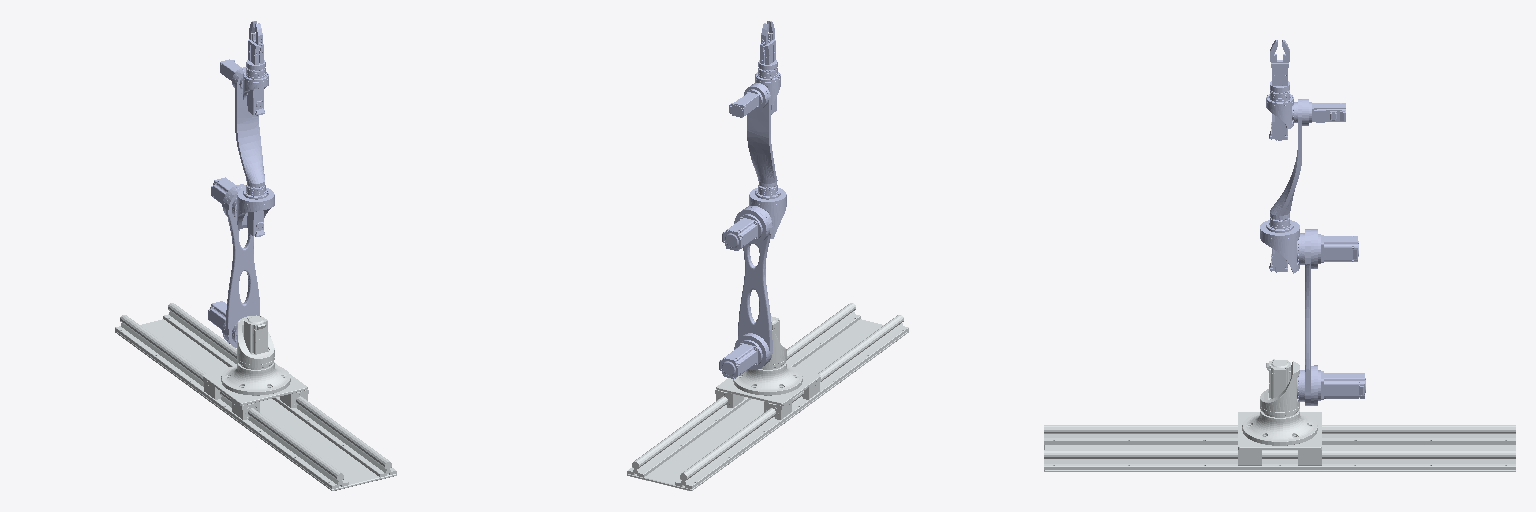
URDF robot description (sr5_description):
<?xml version="1.0" encoding="utf-8"?>
<!-- This URDF was automatically created by SolidWorks to URDF Exporter! Originally created by [author] ([email redacted]) 
     Commit Version: 1.5.1-0-g916b5db  Build Version: 1.5.7152.31018
     For more information, please see http://wiki.ros.org/sw_urdf_exporter -->
<robot
  name="sr5_description">

  <link name="world"/>

  <joint name="virtual_joint" type="fixed">
    <parent link="world"/>
    <child link="base_link"/>
  </joint>


  <link
    name="base_link">
    <inertial>
      <origin
        xyz="-3.8924E-16 0.00019559 0.021596"
        rpy="0 0 0" />
      <mass
        value="27.667" />
      <inertia
        ixx="3.606"
        ixy="2.945E-17"
        ixz="1.9429E-16"
        iyy="0.17142"
        iyz="9.0087E-05"
        izz="3.7651" />
    </inertial>
    <visual>
      <origin
        xyz="0 0 0"
        rpy="0 0 0" />
      <geometry>
        <mesh
          filename="package://sr5_description/meshes/base_link.STL" />
      </geometry>
      <material
        name="">
        <color
          rgba="0.89804 0.91765 0.92941 1" />
      </material>
    </visual>
    <collision>
      <origin
        xyz="0 0 0"
        rpy="0 0 0" />
      <geometry>
        <mesh
          filename="package://sr5_description/meshes/base_link.STL" />
      </geometry>
    </collision>
  </link>
  <link
    name="link1">
    <inertial>
      <origin
        xyz="-0.00062621 -6.8625E-08 -0.0038867"
        rpy="0 0 0" />
      <mass
        value="4.3511" />
      <inertia
        ixx="0.019914"
        ixy="1.2269E-09"
        ixz="-3.1587E-07"
        iyy="0.01992"
        iyz="7.4811E-09"
        izz="0.035457" />
    </inertial>
    <visual>
      <origin
        xyz="0 0 0"
        rpy="0 0 0" />
      <geometry>
        <mesh
          filename="package://sr5_description/meshes/link1.STL" />
      </geometry>
      <material
        name="">
        <color
          rgba="0.89804 0.91765 0.92941 1" />
      </material>
    </visual>
    <collision>
      <origin
        xyz="0 0 0"
        rpy="0 0 0" />
      <geometry>
        <mesh
          filename="package://sr5_description/meshes/link1.STL" />
      </geometry>
    </collision>
  </link>
  <joint
    name="joint1"
    type="prismatic">
    <origin
      xyz="0 0 0.075"
      rpy="0 0 0" />
    <parent
      link="base_link" />
    <child
      link="link1" />
    <axis
      xyz="0 1 0" />
    <limit
      lower="-0.5"
      upper="0.5"
      effort="100000"
      velocity="100" />
  </joint>
  <link
    name="link2">
    <inertial>
      <origin
        xyz="8.5634E-09 0.0099951 0.082501"
        rpy="0 0 0" />
      <mass
        value="1.3178" />
      <inertia
        ixx="0.0027395"
        ixy="-3.6462E-07"
        ixz="3.6685E-09"
        iyy="0.0027521"
        iyz="-0.00035357"
        izz="0.0018915" />
    </inertial>
    <visual>
      <origin
        xyz="0 0 0"
        rpy="0 0 0" />
      <geometry>
        <mesh
          filename="package://sr5_description/meshes/link2.STL" />
      </geometry>
      <material
        name="">
        <color
          rgba="0.89804 0.91765 0.92941 1" />
      </material>
    </visual>
    <collision>
      <origin
        xyz="0 0 0"
        rpy="0 0 0" />
      <geometry>
        <mesh
          filename="package://sr5_description/meshes/link2.STL" />
      </geometry>
    </collision>
  </link>
  <joint
    name="joint2"
    type="revolute">
    <origin
      xyz="0 0 0.03"
      rpy="0 0 0" />
    <parent
      link="link1" />
    <child
      link="link2" />
    <axis
      xyz="0 0 1" />
    <limit
      lower="-3.141"
      upper="3.141"
      effort="1000000"
      velocity="1000" />
  </joint>
  <link
    name="link3">
    <inertial>
      <origin
        xyz="-9.7386E-05 0.057355 0.1895"
        rpy="0 0 0" />
      <mass
        value="2.6176" />
      <inertia
        ixx="0.085085"
        ixy="-1.8079E-05"
        ixz="6.618E-06"
        iyy="0.082321"
        iyz="0.00079301"
        izz="0.0064085" />
    </inertial>
    <visual>
      <origin
        xyz="0 0 0"
        rpy="0 0 0" />
      <geometry>
        <mesh
          filename="package://sr5_description/meshes/link3.STL" />
      </geometry>
      <material
        name="">
        <color
          rgba="0.79216 0.81961 0.93333 1" />
      </material>
    </visual>
    <collision>
      <origin
        xyz="0 0 0"
        rpy="0 0 0" />
      <geometry>
        <mesh
          filename="package://sr5_description/meshes/link3.STL" />
      </geometry>
    </collision>
  </link>
  <joint
    name="joint3"
    type="revolute">
    <origin
      xyz="0 0.045 0.1"
      rpy="0 0 0" />
    <parent
      link="link2" />
    <child
      link="link3" />
    <axis
      xyz="0 1 0" />
    <limit
      lower="-2.8"
      upper="2.8"
      effort="100000"
      velocity="100" />
  </joint>
  <link
    name="link4">
    <inertial>
      <origin
        xyz="-1.5278E-06 -0.034935 0.025472"
        rpy="0 0 0" />
      <mass
        value="1.3019" />
      <inertia
        ixx="0.0024627"
        ixy="-2.2347E-06"
        ixz="-8.9011E-08"
        iyy="0.002474"
        iyz="0.00045457"
        izz="0.0019237" />
    </inertial>
    <visual>
      <origin
        xyz="0 0 0"
        rpy="0 0 0" />
      <geometry>
        <mesh
          filename="package://sr5_description/meshes/link4.STL" />
      </geometry>
      <material
        name="">
        <color
          rgba="0.79216 0.81961 0.93333 1" />
      </material>
    </visual>
    <collision>
      <origin
        xyz="0 0 0"
        rpy="0 0 0" />
      <geometry>
        <mesh
          filename="package://sr5_description/meshes/link4.STL" />
      </geometry>
    </collision>
  </link>
  <joint
    name="joint4"
    type="revolute">
    <origin
      xyz="0 0 0.39975"
      rpy="0 0 0" />
    <parent
      link="link3" />
    <child
      link="link4" />
    <axis
      xyz="0 1 0" />
    <limit
      lower="-2.7"
      upper="2.7"
      effort="100000"
      velocity="1000" />
  </joint>
  <link
    name="link5">
    <inertial>
      <origin
        xyz="0.00015562 0.061823 0.20524"
        rpy="0 0 0" />
      <mass
        value="0.67706" />
      <inertia
        ixx="0.010186"
        ixy="-1.0896E-05"
        ixz="-8.2132E-06"
        iyy="0.0090583"
        iyz="-0.0026376"
        izz="0.0015366" />
    </inertial>
    <visual>
      <origin
        xyz="0 0 0"
        rpy="0 0 0" />
      <geometry>
        <mesh
          filename="package://sr5_description/meshes/link5.STL" />
      </geometry>
      <material
        name="">
        <color
          rgba="0.79216 0.81961 0.93333 1" />
      </material>
    </visual>
    <collision>
      <origin
        xyz="0 0 0"
        rpy="0 0 0" />
      <geometry>
        <mesh
          filename="package://sr5_description/meshes/link5.STL" />
      </geometry>
    </collision>
  </link>
  <joint
    name="joint5"
    type="revolute">
    <origin
      xyz="0 -0.045 0.098"
      rpy="0 0 0" />
    <parent
      link="link4" />
    <child
      link="link5" />
    <axis
      xyz="0 0 1" />
    <limit
      lower="-3.141"
      upper="3.141"
      effort="100000"
      velocity="100" />
  </joint>
  <link
    name="link6">
    <inertial>
      <origin
        xyz="-7.3617E-06 -0.027586 0.0059698"
        rpy="0 0 0" />
      <mass
        value="0.5365" />
      <inertia
        ixx="0.00070321"
        ixy="-1.738E-06"
        ixz="-2.0576E-07"
        iyy="0.00070294"
        iyz="3.7561E-05"
        izz="0.00034865" />
    </inertial>
    <visual>
      <origin
        xyz="0 0 0"
        rpy="0 0 0" />
      <geometry>
        <mesh
          filename="package://sr5_description/meshes/link6.STL" />
      </geometry>
      <material
        name="">
        <color
          rgba="0.79216 0.81961 0.93333 1" />
      </material>
    </visual>
    <collision>
      <origin
        xyz="0 0 0"
        rpy="0 0 0" />
      <geometry>
        <mesh
          filename="package://sr5_description/meshes/link6.STL" />
      </geometry>
    </collision>
  </link>
  <joint
    name="joint6"
    type="revolute">
    <origin
      xyz="0 0.032068 0.30175"
      rpy="0 0 0" />
    <parent
      link="link5" />
    <child
      link="link6" />
    <axis
      xyz="0 1 0" />
    <limit
      lower="-3.141"
      upper="3.141"
      effort="1000000"
      velocity="100" />
  </joint>
  <link
    name="link7">
    <inertial>
      <origin
        xyz="4.7452E-18 8.4288E-18 -0.010923"
        rpy="0 0 0" />
      <mass
        value="0.038745" />
      <inertia
        ixx="8.7657E-06"
        ixy="-5.1368E-22"
        ixz="8.0722E-22"
        iyy="9.1518E-06"
        iyz="-1.7059E-21"
        izz="1.3442E-05" />
    </inertial>
    <visual>
      <origin
        xyz="0 0 0"
        rpy="0 0 0" />
      <geometry>
        <mesh
          filename="package://sr5_description/meshes/link7.STL" />
      </geometry>
      <material
        name="">
        <color
          rgba="0.79216 0.81961 0.93333 1" />
      </material>
    </visual>
    <collision>
      <origin
        xyz="0 0 0"
        rpy="0 0 0" />
      <geometry>
        <mesh
          filename="package://sr5_description/meshes/link7.STL" />
      </geometry>
    </collision>
  </link>
  <joint
    name="joint7"
    type="revolute">
    <origin
      xyz="0 -0.03207 0.0855"
      rpy="0 0 0" />
    <parent
      link="link6" />
    <child
      link="link7" />
    <axis
      xyz="0 0 -1" />
    <limit
      lower="-3.141"
      upper="3.141"
      effort="100000"
      velocity="100" />
  </joint>
  <link
    name="hand_link">
    <inertial>
      <origin
        xyz="6.2564E-06 3.3394E-05 0.031908"
        rpy="0 0 0" />
      <mass
        value="0.060257" />
      <inertia
        ixx="2.8147E-05"
        ixy="-3.2686E-08"
        ixz="4.6046E-09"
        iyy="2.327E-05"
        iyz="-2.5298E-08"
        izz="1.3081E-05" />
    </inertial>
    <visual>
      <origin
        xyz="0 0 0"
        rpy="0 0 0" />
      <geometry>
        <mesh
          filename="package://sr5_description/meshes/hand_link.STL" />
      </geometry>
      <material
        name="">
        <color
          rgba="0.79216 0.81961 0.93333 1" />
      </material>
    </visual>
    <collision>
      <origin
        xyz="0 0 0"
        rpy="0 0 0" />
      <geometry>
        <mesh
          filename="package://sr5_description/meshes/hand_link.STL" />
      </geometry>
    </collision>
  </link>
  <joint
    name="hand_joint"
    type="fixed">
    <origin
      xyz="0 0 0"
      rpy="0 0 0" />
    <parent
      link="link7" />
    <child
      link="hand_link" />
    <axis
      xyz="0 0 0" />
  </joint>
  <link
    name="left_finger_link">
    <inertial>
      <origin
        xyz="2.381E-09 -0.0051254 0.031222"
        rpy="0 0 0" />
      <mass
        value="0.012212" />
      <inertia
        ixx="4.4569E-06"
        ixy="-1.7335E-13"
        ixz="-4.1481E-13"
        iyy="4.3168E-06"
        iyz="-6.2127E-08"
        izz="5.7393E-07" />
    </inertial>
    <visual>
      <origin
        xyz="0 0 0"
        rpy="0 0 0" />
      <geometry>
        <mesh
          filename="package://sr5_description/meshes/left_finger_link.STL" />
      </geometry>
      <material
        name="">
        <color
          rgba="0.79216 0.81961 0.93333 1" />
      </material>
    </visual>
    <collision>
      <origin
        xyz="0 0 0"
        rpy="0 0 0" />
      <geometry>
        <mesh
          filename="package://sr5_description/meshes/left_finger_link.STL" />
      </geometry>
    </collision>
  </link>
  <joint
    name="left_finger_joint"
    type="fixed">
    <origin
      xyz="0 -0.01069 0.0577"
      rpy="0 0 0" />
    <parent
      link="hand_link" />
    <child
      link="left_finger_link" />
    <axis
      xyz="0 0 0" />
    <limit
      lower="-0.01"
      upper="0"
      effort="100000"
      velocity="100" />
  </joint>
  <link
    name="right_finger_link">
    <inertial>
      <origin
        xyz="-2.381E-09 0.0051254 0.031222"
        rpy="0 0 0" />
      <mass
        value="0.012212" />
      <inertia
        ixx="4.4569E-06"
        ixy="-1.7335E-13"
        ixz="4.1481E-13"
        iyy="4.3168E-06"
        iyz="6.2127E-08"
        izz="5.7393E-07" />
    </inertial>
    <visual>
      <origin
        xyz="0 0 0"
        rpy="0 0 0" />
      <geometry>
        <mesh
          filename="package://sr5_description/meshes/right_finger_link.STL" />
      </geometry>
      <material
        name="">
        <color
          rgba="0.79216 0.81961 0.93333 1" />
      </material>
    </visual>
    <collision>
      <origin
        xyz="0 0 0"
        rpy="0 0 0" />
      <geometry>
        <mesh
          filename="package://sr5_description/meshes/right_finger_link.STL" />
      </geometry>
    </collision>
  </link>
  <joint
    name="right_finger_joint"
    type="fixed">
    <origin
      xyz="0 0.01069 0.0577"
      rpy="0 0 0" />
    <parent
      link="hand_link" />
    <child
      link="right_finger_link" />
    <axis
      xyz="0 0 0" />
    <limit
      lower="0"
      upper="0.01"
      effort="100000"
      velocity="100" />

  </joint>

  <gazebo>
    <plugin name="gazebo_ros_control" filename="libgazebo_ros_control.so">
      <robotNamespace>/</robotNamespace>
      <legacyModeNS> true </legacyModeNS>
      <robotSimType>gazebo_ros_control/DefaultRobotHWSim</robotSimType>
    </plugin>
  </gazebo>

  <gazebo reference="base_link">
        <static>true</static>
  </gazebo>

  <transmission name="tran1">
    <type>transmission_interface/SimpleTransmission</type>
    <joint name="joint1">
      <hardwareInterface>hardware_interface/EffortJointInterface</hardwareInterface>
    </joint>
    <actuator name="motor1">
      <hardwareInterface>hardware_interface/EffortJointInterface</hardwareInterface>
      <mechanicalReduction>1</mechanicalReduction>
    </actuator>
  </transmission>  

  <transmission name="tran2">
    <type>transmission_interface/SimpleTransmission</type>
    <joint name="joint2">
      <hardwareInterface>hardware_interface/EffortJointInterface</hardwareInterface>
    </joint>
    <actuator name="motor2">
      <hardwareInterface>hardware_interface/EffortJointInterface</hardwareInterface>
      <mechanicalReduction>1</mechanicalReduction>
    </actuator>
  </transmission>

  <transmission name="tran3">
    <type>transmission_interface/SimpleTransmission</type>
    <joint name="joint3">
      <hardwareInterface>hardware_interface/EffortJointInterface</hardwareInterface>
    </joint>
    <actuator name="motor3">
      <hardwareInterface>hardware_interface/EffortJointInterface</hardwareInterface>
      <mechanicalReduction>1</mechanicalReduction>
    </actuator>
  </transmission>

  <transmission name="tran4">
    <type>transmission_interface/SimpleTransmission</type>
    <joint name="joint4">
      <hardwareInterface>hardware_interface/EffortJointInterface</hardwareInterface>
    </joint>
    <actuator name="motor4">
      <hardwareInterface>hardware_interface/EffortJointInterface</hardwareInterface>
      <mechanicalReduction>1</mechanicalReduction>
    </actuator>
  </transmission>

  <transmission name="tran5">
    <type>transmission_interface/SimpleTransmission</type>
    <joint name="joint5">
      <hardwareInterface>hardware_interface/EffortJointInterface</hardwareInterface>
    </joint>
    <actuator name="motor5">
      <hardwareInterface>hardware_interface/EffortJointInterface</hardwareInterface>
      <mechanicalReduction>1</mechanicalReduction>
    </actuator>
  </transmission>

  <transmission name="tran6">
    <type>transmission_interface/SimpleTransmission</type>
    <joint name="joint6">
      <hardwareInterface>hardware_interface/EffortJointInterface</hardwareInterface>
    </joint>
    <actuator name="motor6">
      <hardwareInterface>hardware_interface/EffortJointInterface</hardwareInterface>
      <mechanicalReduction>1</mechanicalReduction>
    </actuator>
  </transmission>

  <transmission name="tran7">
    <type>transmission_interface/SimpleTransmission</type>
    <joint name="joint7">
      <hardwareInterface>hardware_interface/EffortJointInterface</hardwareInterface>
    </joint>
    <actuator name="motor7">
      <hardwareInterface>hardware_interface/EffortJointInterface</hardwareInterface>
      <mechanicalReduction>1</mechanicalReduction>
    </actuator>
  </transmission>

  <gazebo reference="base_link">
    <mu1>1</mu1>
    <mu2>1</mu2>
    <selfCollide>true</selfCollide>
  </gazebo>

  <gazebo reference="link1">
    <mu1>1000</mu1>
    <mu2>1000</mu2>
    <selfCollide>true</selfCollide>
    <material>Gazebo/Grey</material>
  </gazebo>

  <gazebo reference="link2">
    <mu1>1</mu1>
    <mu2>1</mu2>
    <selfCollide>true</selfCollide>
  </gazebo>

  <gazebo reference="link3">
    <mu1>1</mu1>
    <mu2>1</mu2>
    <selfCollide>true</selfCollide>
    <material>Gazebo/Grey</material>
  </gazebo>

  <gazebo reference="link4">
    <mu1>1</mu1>
    <mu2>1</mu2>
    <selfCollide>true</selfCollide>
  </gazebo>

  <gazebo reference="link5">
    <mu1>1</mu1>
    <mu2>1</mu2>
    <selfCollide>true</selfCollide>
    <material>Gazebo/Grey</material>
  </gazebo>

  <gazebo reference="link6">
    <mu1>1</mu1>
    <mu2>1</mu2>
    <selfCollide>true</selfCollide>
  </gazebo>

  <gazebo reference="link7">
    <mu1>1</mu1>
    <mu2>1</mu2>
    <selfCollide>true</selfCollide>
    <material>Gazebo/Grey</material>
  </gazebo>

  <gazebo reference="left_finger_link">
    <mu1>1</mu1>
    <mu2>1</mu2>
    <selfCollide>true</selfCollide>
  </gazebo>

  <gazebo reference="right_finger_link">
    <mu1>1</mu1>
    <mu2>1</mu2>
    <selfCollide>true</selfCollide>
    <material>Gazebo/Grey</material>
  </gazebo>  

</robot>

--- Render facts (derived) ---
3 views of the same robot in one strip: view 1: azimuth 30°, elevation 25°; view 2: azimuth 150°, elevation 25°; view 3: azimuth 270°, elevation 25° (orthographic).
Robot: sr5_description — 12 links, 11 joints (6 revolute, 1 prismatic, 4 fixed); root link world; default pose: every joint at zero.
Links seen in each view (by area): view 1: base_link, link3, link1, link5, link2, link4, link6; view 2: base_link, link3, link1, link5, link4, link2, link6; view 3: base_link, link3, link1, link5, link2, link4, link6.
Link boxes in pixels (x1=…): base_link: x1=115, y1=303, x2=396, y2=490; link3: x1=208, y1=177, x2=259, y2=347; link1: x1=203, y1=362, x2=308, y2=419; link5: x1=220, y1=59, x2=264, y2=187; link2: x1=237, y1=315, x2=274, y2=369; link4: x1=237, y1=185, x2=274, y2=236; link6: x1=243, y1=68, x2=268, y2=115; base_link: x1=627, y1=303, x2=908, y2=490; link3: x1=719, y1=206, x2=772, y2=378; link1: x1=715, y1=363, x2=820, y2=419; link5: x1=729, y1=83, x2=777, y2=187; link4: x1=749, y1=185, x2=786, y2=238; link2: x1=756, y1=316, x2=786, y2=369; link6: x1=755, y1=68, x2=780, y2=114; base_link: x1=1044, y1=425, x2=1515, y2=471; link3: x1=1297, y1=229, x2=1365, y2=405; link1: x1=1238, y1=409, x2=1321, y2=465; link5: x1=1270, y1=99, x2=1345, y2=219; link2: x1=1260, y1=359, x2=1299, y2=417; link4: x1=1260, y1=217, x2=1299, y2=273; link6: x1=1266, y1=90, x2=1293, y2=140.
Size in the robot's own frame: 0.225 by 1.25 by 1.21 metres.
Meshes: 11 distinct files referenced, 11 mesh visuals loaded (11 binary STL).